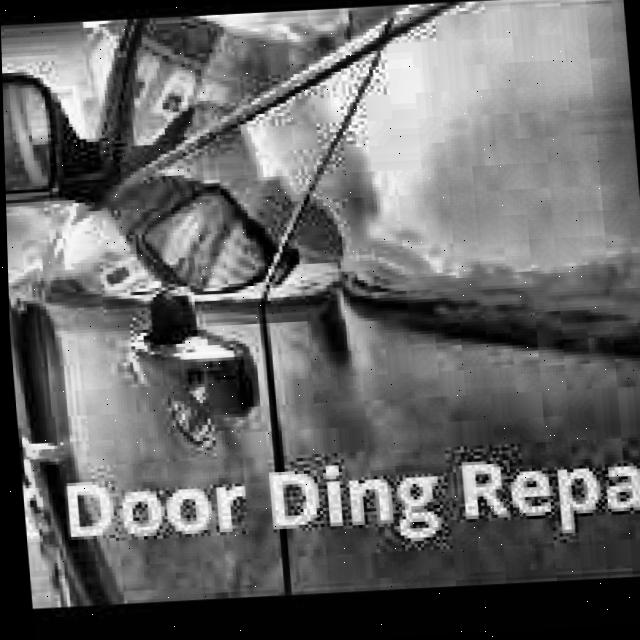door_dent: (202, 189, 380, 373)
